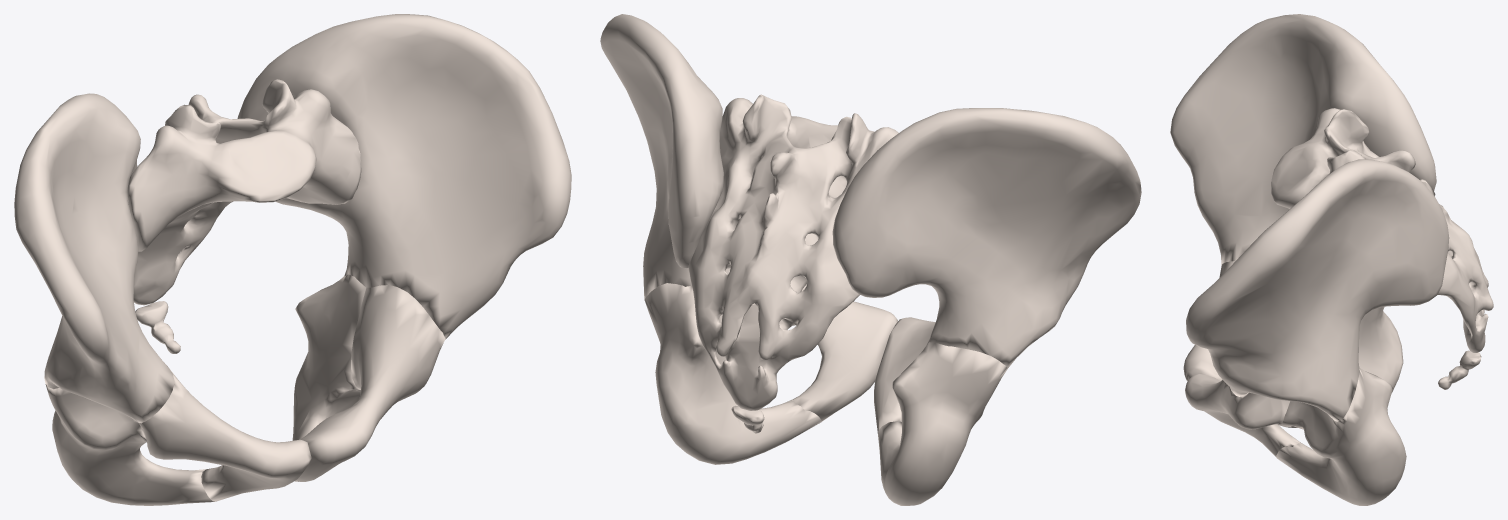
File: vh_m_pelvis-40.glb
3 renders of one model, left to right at view 1: azimuth 30°, elevation 25°; view 2: azimuth 150°, elevation 25°; view 3: azimuth 270°, elevation 25°, orthographic. The views are drawn at different scales.
Visible parts, largest first — view 1: VH_M_ilium_compact_bone_L, VH_M_ilium_compact_bone_R, VH_M_sacrum, VH_M_pubis_compact_bone_L, VH_M_ischium_compact_bone_R, VH_M_pubis_compact_bone_R, VH_M_ischium_compact_bone_L, VH_M_coccyx; view 2: VH_M_ilium_compact_bone_R, VH_M_sacrum, VH_M_ilium_compact_bone_L, VH_M_ischium_compact_bone_L, VH_M_ischium_compact_bone_R, VH_M_pubis_compact_bone_L, VH_M_pubis_compact_bone_R; view 3: VH_M_ilium_compact_bone_L, VH_M_ilium_compact_bone_R, VH_M_ischium_compact_bone_L, VH_M_sacrum, VH_M_pubis_compact_bone_L, VH_M_ischium_compact_bone_R, VH_M_pubis_compact_bone_R, VH_M_coccyx.
Part boxes in pixels (bbox=[...]): VH_M_ilium_compact_bone_L: bbox=[237, 14, 571, 339]; VH_M_ilium_compact_bone_R: bbox=[14, 93, 174, 423]; VH_M_sacrum: bbox=[127, 79, 361, 305]; VH_M_pubis_compact_bone_L: bbox=[295, 285, 445, 481]; VH_M_ischium_compact_bone_R: bbox=[45, 384, 214, 505]; VH_M_pubis_compact_bone_R: bbox=[139, 370, 311, 501]; VH_M_ischium_compact_bone_L: bbox=[292, 274, 366, 481]; VH_M_coccyx: bbox=[135, 301, 180, 353]; VH_M_ilium_compact_bone_R: bbox=[832, 108, 1141, 367]; VH_M_sacrum: bbox=[688, 94, 898, 410]; VH_M_ilium_compact_bone_L: bbox=[600, 14, 723, 299]; VH_M_ischium_compact_bone_L: bbox=[644, 268, 821, 464]; VH_M_ischium_compact_bone_R: bbox=[878, 342, 1007, 505]; VH_M_pubis_compact_bone_L: bbox=[793, 284, 897, 421]; VH_M_pubis_compact_bone_R: bbox=[874, 317, 935, 433]; VH_M_ilium_compact_bone_L: bbox=[1186, 159, 1449, 421]; VH_M_ilium_compact_bone_R: bbox=[1170, 14, 1436, 264]; VH_M_ischium_compact_bone_L: bbox=[1276, 367, 1406, 505]; VH_M_sacrum: bbox=[1271, 108, 1493, 352]; VH_M_pubis_compact_bone_L: bbox=[1185, 373, 1299, 456]; VH_M_ischium_compact_bone_R: bbox=[1288, 307, 1403, 427]; VH_M_pubis_compact_bone_R: bbox=[1183, 261, 1291, 427]; VH_M_coccyx: bbox=[1438, 350, 1481, 389].
Bounding box in the file's own units: 0.2836 × 0.2185 × 0.1728.
